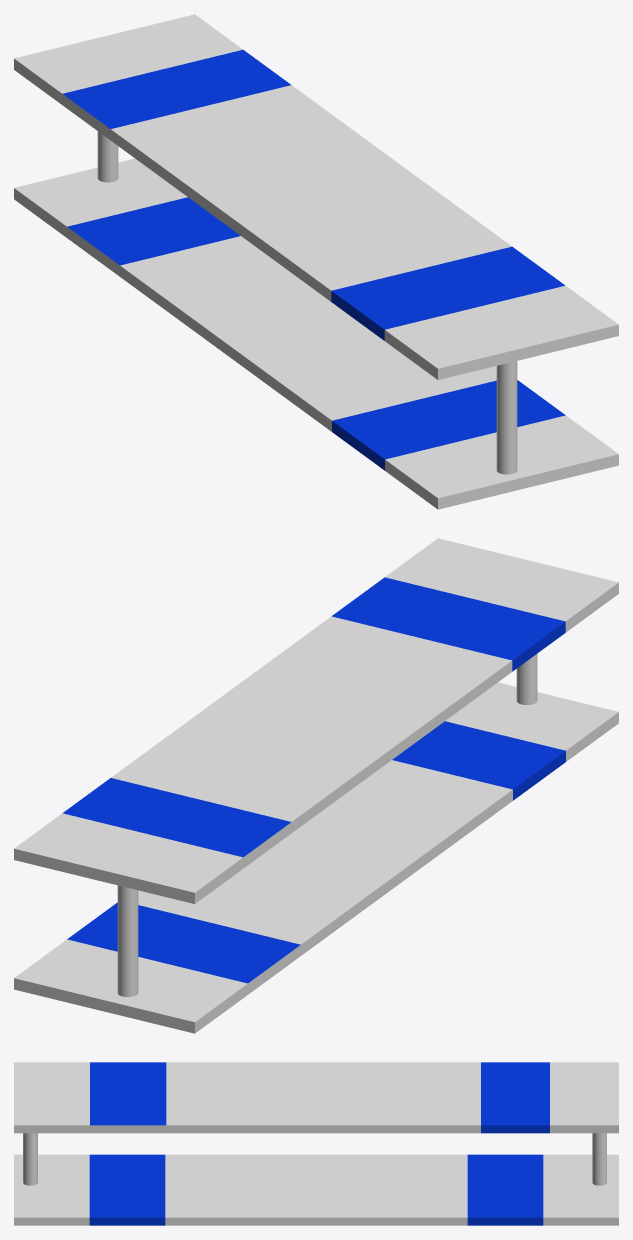
The picture shows the model from 3 angles, top to bottom: view 1: azimuth 30°, elevation 25°; view 2: azimuth 150°, elevation 25°; view 3: azimuth 270°, elevation 25°; orthographic projection. The views are drawn at different scales.
Parts seen in each view (by area): view 1: Cube; view 2: Cube; view 3: Cube.
Boxes of the visible parts, <box> form: Cube: <box>14,14,618,509</box>; Cube: <box>14,538,618,1033</box>; Cube: <box>14,1062,618,1225</box>.
Bounding box in the file's own units: 419 × 312 × 1701.
